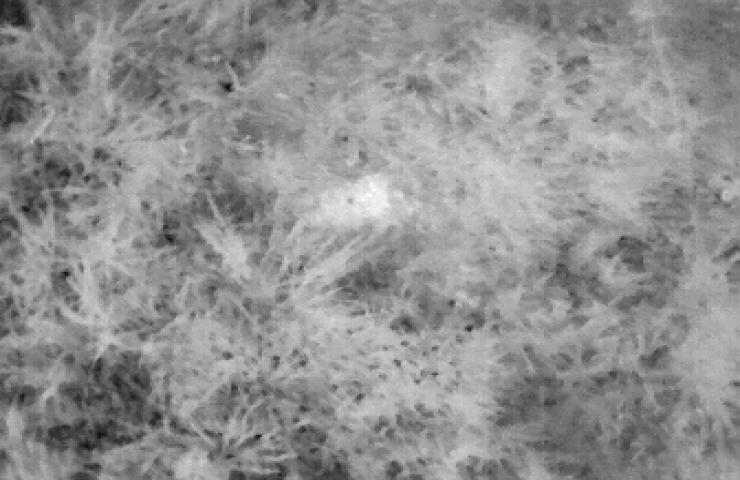landmines: (312, 166, 397, 232)
